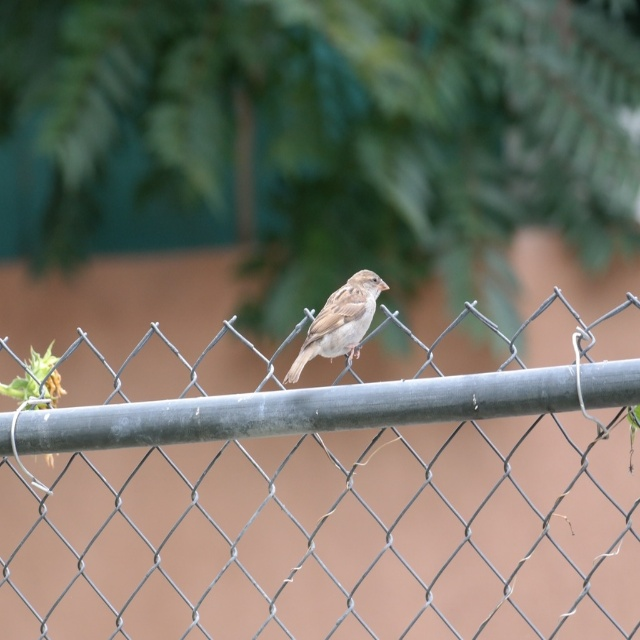Sparrow: (284, 271, 389, 385)
